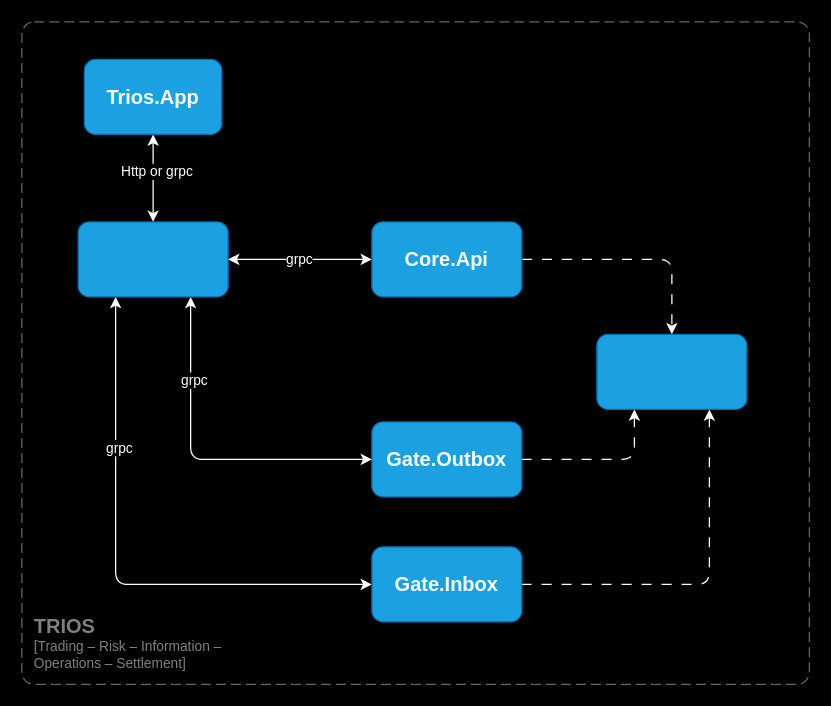
The diagram is 831 pixels wide and 706 high, and some of its shapes have lost their labels. The shapes that lost their labels are listed below. From the top down, each one's centre as x and y in pixels, then its label:
At [152,259]: "Trios.Api".
At [671,371]: "Trios.Protocol".
